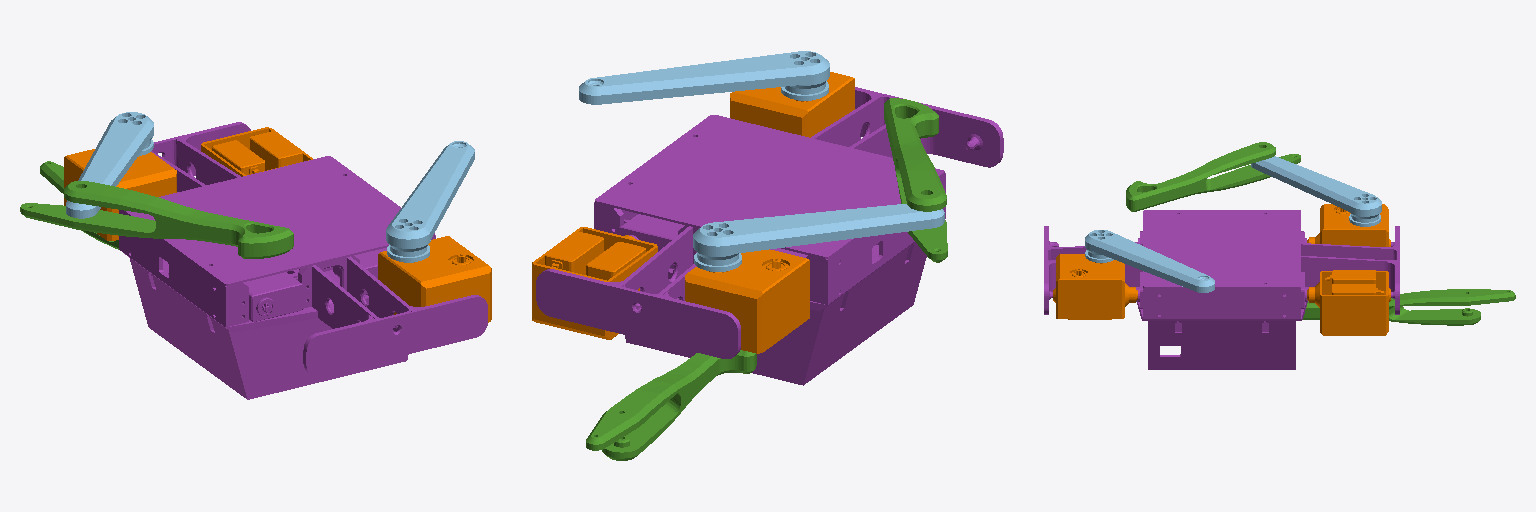
URDF robot description (urdf_robot):
<?xml version="1.0" ?>
<robot name="urdf_robot">
  <link name="base">
    <inertial>
      <origin rpy="0 0 0" xyz="0 0 0"/>
      <mass value="0.001"/>
      <inertia ixx="0.000001" ixy="0" ixz="0" iyy="0.000001" iyz="0" izz="0.000001"/>
    </inertial>
  </link>
  <joint name="floating_base" type="fixed">
    <origin rpy="0 0 0" xyz="0 0 0"/>
    <parent link="base"/>
    <child link="Torso_-_Middle_Section_p1"/>
  </joint>
  <link name="Torso_-_Middle_Section_p1">
    <visual>
      <origin xyz="0 0 0" rpy="0 0 0"/>
      <geometry>
        <mesh filename="meshes/Torso_-_Middle_Section_p1.stl"/>
      </geometry>
      <material name="Torso_-_Middle_Section_p1_material">
        <color rgba="0.68235294 0.33333333 0.7372549 1"/>
      </material>
    </visual>
    <collision>
      <origin xyz="0 0 0" rpy="0 0 0"/>
      <geometry>
        <mesh filename="meshes/Torso_-_Middle_Section_p1.stl"/>
      </geometry>
    </collision>
    <inertial>
      <mass value="1.5240336170000002"/>
      <inertia ixx="0.006287406958264576" iyy="0.003591198732501561" izz="0.009284383146676643" ixy="-2.889103964004566e-06" ixz="-3.4682288637451496e-06" iyz="1.4147265106902277e-06"/>
      <origin xyz="4.082222715513562e-06 4.80864256494196e-05 0.002628680324255778" rpy="0 0 0"/>
    </inertial>
  </link>
  <joint name="dof_shoulder_front_left" type="revolute">
    <origin xyz="0.05283961761012007 -0.07978263030278229 0.006218810242656742" rpy="-1.5707962803846924 1.109880898297888e-08 -5.3589792270436476e-08"/>
    <parent link="Torso_-_Middle_Section_p1"/>
    <child link="LHS,_FRONT"/>
    <limit effort="80" velocity="5" lower="0" upper="3.1415927"/>
    <axis xyz="0 0 1"/>
  </joint>
  <link name="LHS,_FRONT">
    <visual>
      <origin xyz="0 0 0" rpy="0 0 0"/>
      <geometry>
        <mesh filename="meshes/LHS,_FRONT.stl"/>
      </geometry>
      <material name="LHS,_FRONT_material">
        <color rgba="0.97254902 0.52941176 0.0039215686 1"/>
      </material>
    </visual>
    <collision>
      <origin xyz="0 0 0" rpy="0 0 0"/>
      <geometry>
        <mesh filename="meshes/LHS,_FRONT.stl"/>
      </geometry>
    </collision>
    <inertial>
      <mass value="0.5530776769999999"/>
      <inertia ixx="0.00017183834662602455" iyy="0.0002325225472454496" izz="0.00021389164590202177" ixy="1.1040673188142142e-09" ixz="1.018745159861749e-06" iyz="-5.531734021469826e-07"/>
      <origin xyz="3.0038915404756133e-07 -0.0070788828057092084 -0.038508407514846556" rpy="0 0 0"/>
    </inertial>
  </link>
  <joint name="dof_shoulder_front_right" type="revolute">
    <origin xyz="-0.052660382010942725 -0.07978262561367541 0.006218811207272955" rpy="1.5707963732051011 6.468860247466068e-08 3.1415926"/>
    <parent link="Torso_-_Middle_Section_p1"/>
    <child link="RHS,_FRONT"/>
    <limit effort="80" velocity="5" lower="0" upper="3.1415927"/>
    <axis xyz="0 0 1"/>
  </joint>
  <link name="RHS,_FRONT">
    <visual>
      <origin xyz="0 0 0" rpy="0 0 0"/>
      <geometry>
        <mesh filename="meshes/RHS,_FRONT.stl"/>
      </geometry>
      <material name="RHS,_FRONT_material">
        <color rgba="0.97254902 0.52941176 0.0039215686 1"/>
      </material>
    </visual>
    <collision>
      <origin xyz="0 0 0" rpy="0 0 0"/>
      <geometry>
        <mesh filename="meshes/RHS,_FRONT.stl"/>
      </geometry>
    </collision>
    <inertial>
      <mass value="0.553076941"/>
      <inertia ixx="0.00017183756636431793" iyy="0.00023252135585582893" izz="0.00021389105238396795" ixy="-1.244448908952715e-09" ixz="-1.0187105152740643e-06" iyz="-5.529142222548696e-07"/>
      <origin xyz="-3.3727359286788685e-07 -0.0070788968936085625 -0.03850844823380605" rpy="0 0 0"/>
    </inertial>
  </link>
  <joint name="dof_shoulder_rear_right" type="revolute">
    <origin xyz="-0.05266038112248124 0.07981737252407924 0.0062188138408855315" rpy="1.570796373205103 1.1098809205023485e-08 7.771561172376096e-16"/>
    <parent link="Torso_-_Middle_Section_p1"/>
    <child link="Rear_Right_Servo_Box"/>
    <limit effort="80" velocity="5" lower="0" upper="3.1415927"/>
    <axis xyz="0 0 1"/>
  </joint>
  <link name="Rear_Right_Servo_Box">
    <visual>
      <origin xyz="0 0 0" rpy="0 0 0"/>
      <geometry>
        <mesh filename="meshes/Rear_Right_Servo_Box.stl"/>
      </geometry>
      <material name="Rear_Right_Servo_Box_material">
        <color rgba="0.97254902 0.52941176 0.0039215686 1"/>
      </material>
    </visual>
    <collision>
      <origin xyz="0 0 0" rpy="0 0 0"/>
      <geometry>
        <mesh filename="meshes/Rear_Right_Servo_Box.stl"/>
      </geometry>
    </collision>
    <inertial>
      <mass value="0.553076852"/>
      <inertia ixx="0.00017183740699748028" iyy="0.00023252139192085234" izz="0.00021389109491234663" ixy="1.2245683646632023e-09" ixz="1.0193332700918113e-06" iyz="5.527929352999651e-07"/>
      <origin xyz="-3.327546997401528e-07 0.007078904459825944 -0.038508453168711355" rpy="0 0 0"/>
    </inertial>
  </link>
  <joint name="dof_shoulder_rear_left" type="revolute">
    <origin xyz="0.0528396192564558 0.07981737023311562 0.006218809674183447" rpy="-1.5707962803846902 6.468860225261608e-08 3.141592653589793"/>
    <parent link="Torso_-_Middle_Section_p1"/>
    <child link="LHS,_REAR"/>
    <limit effort="80" velocity="5" lower="0" upper="3.1415927"/>
    <axis xyz="0 0 1"/>
  </joint>
  <link name="LHS,_REAR">
    <visual>
      <origin xyz="0 0 0" rpy="0 0 0"/>
      <geometry>
        <mesh filename="meshes/LHS,_REAR.stl"/>
      </geometry>
      <material name="LHS,_REAR_material">
        <color rgba="0.97254902 0.52941176 0.0039215686 1"/>
      </material>
    </visual>
    <collision>
      <origin xyz="0 0 0" rpy="0 0 0"/>
      <geometry>
        <mesh filename="meshes/LHS,_REAR.stl"/>
      </geometry>
    </collision>
    <inertial>
      <mass value="0.553077257"/>
      <inertia ixx="0.00017183783717407704" iyy="0.00023252157033671621" izz="0.00021389094566084832" ixy="-1.2373531736268879e-09" ixz="-1.0193363065177312e-06" iyz="5.529388609360943e-07"/>
      <origin xyz="3.3655731490525687e-07 0.007078896637586169 -0.03850843079234288" rpy="0 0 0"/>
    </inertial>
  </link>
  <joint name="Revolute_1" type="revolute">
    <origin xyz="-0.014500000633499342 -0.03185000062727575 -0.02864999963424966" rpy="-1.5707963267948966 -1.5707962889011908 0.0"/>
    <parent link="LHS,_FRONT"/>
    <child link="Hip_Horn"/>
    <limit effort="80" velocity="5" lower="0" upper="0"/>
    <axis xyz="0 0 1"/>
  </joint>
  <link name="Hip_Horn">
    <visual>
      <origin xyz="0 0 0" rpy="0 0 0"/>
      <geometry>
        <mesh filename="meshes/Hip_Horn.stl"/>
      </geometry>
      <material name="Hip_Horn_material">
        <color rgba="0.61568627 0.81176471 0.92941176 1"/>
      </material>
    </visual>
    <collision>
      <origin xyz="0 0 0" rpy="0 0 0"/>
      <geometry>
        <mesh filename="meshes/Hip_Horn.stl"/>
      </geometry>
    </collision>
    <inertial>
      <mass value="0.0511314554"/>
      <inertia ixx="5.293923258542076e-05" iyy="5.2939234477074613e-05" izz="0.00010232304335895765" ixy="-4.821881122947881e-05" ixz="3.1944217284432654e-06" iyz="3.194421665783694e-06"/>
      <origin xyz="0.034947244515342576 0.03494724382984155 -0.014066303948382371" rpy="0 0 0"/>
    </inertial>
  </link>
  <joint name="Revolute_3" type="revolute">
    <origin xyz="0.014499999366500718 -0.03184999930092836 -0.028649999634249655" rpy="-1.5707963071795867 -4.641020634466031e-08 -4.641020534545959e-08"/>
    <parent link="RHS,_FRONT"/>
    <child link="Hip_Horn_2"/>
    <limit effort="80" velocity="5" lower="0" upper="0"/>
    <axis xyz="0 0 1"/>
  </joint>
  <link name="Hip_Horn_2">
    <visual>
      <origin xyz="0 0 0" rpy="0 0 0"/>
      <geometry>
        <mesh filename="meshes/Hip_Horn_2.stl"/>
      </geometry>
      <material name="Hip_Horn_material_2">
        <color rgba="0.61568627 0.81176471 0.92941176 1"/>
      </material>
    </visual>
    <collision>
      <origin xyz="0 0 0" rpy="0 0 0"/>
      <geometry>
        <mesh filename="meshes/Hip_Horn_2.stl"/>
      </geometry>
    </collision>
    <inertial>
      <mass value="0.0511314554"/>
      <inertia ixx="5.2939233203605856e-05" iyy="5.2939233858889525e-05" izz="0.00010232304335895765" ixy="-4.8218811229478833e-05" ixz="-3.194421707966363e-06" iyz="-3.1944216862605973e-06"/>
      <origin xyz="-0.03494724429132352 -0.03494724405386061 -0.014066303948382371" rpy="0 0 0"/>
    </inertial>
  </link>
  <joint name="dof_servo_hip" type="revolute">
    <origin xyz="0.014499999366500638 0.03185000069907161 -0.048649999634249666" rpy="1.570796419615309 -1.5707962889011904 0.0"/>
    <parent link="Rear_Right_Servo_Box"/>
    <child link="Hip_Horn_3"/>
    <limit effort="80" velocity="5" lower="0" upper="3.1415927"/>
    <axis xyz="0 0 1"/>
  </joint>
  <link name="Hip_Horn_3">
    <visual>
      <origin xyz="0 0 0" rpy="0 0 0"/>
      <geometry>
        <mesh filename="meshes/Hip_Horn_3.stl"/>
      </geometry>
      <material name="Hip_Horn_material_3">
        <color rgba="0.61568627 0.81176471 0.92941176 1"/>
      </material>
    </visual>
    <collision>
      <origin xyz="0 0 0" rpy="0 0 0"/>
      <geometry>
        <mesh filename="meshes/Hip_Horn_3.stl"/>
      </geometry>
    </collision>
    <inertial>
      <mass value="0.0511314554"/>
      <inertia ixx="5.293923258542076e-05" iyy="5.2939234477074613e-05" izz="0.00010232304335895765" ixy="-4.821881122947881e-05" ixz="3.1944217284432654e-06" iyz="3.194421665783694e-06"/>
      <origin xyz="0.034947244515342576 0.03494724382984155 -0.014066303948382371" rpy="0 0 0"/>
    </inertial>
  </link>
  <joint name="Revolute_3_2" type="revolute">
    <origin xyz="-0.014500000633499367 0.03185000116317368 -0.048649999634249666" rpy="1.5707963999999999 4.641020678874952e-08 4.641020778795024e-08"/>
    <parent link="LHS,_REAR"/>
    <child link="Hip_Horn_4"/>
    <limit effort="80" velocity="5" lower="0" upper="0"/>
    <axis xyz="0 0 1"/>
  </joint>
  <link name="Hip_Horn_4">
    <visual>
      <origin xyz="0 0 0" rpy="0 0 0"/>
      <geometry>
        <mesh filename="meshes/Hip_Horn_4.stl"/>
      </geometry>
      <material name="Hip_Horn_material_4">
        <color rgba="0.61568627 0.81176471 0.92941176 1"/>
      </material>
    </visual>
    <collision>
      <origin xyz="0 0 0" rpy="0 0 0"/>
      <geometry>
        <mesh filename="meshes/Hip_Horn_4.stl"/>
      </geometry>
    </collision>
    <inertial>
      <mass value="0.0511314554"/>
      <inertia ixx="5.293923258542076e-05" iyy="5.2939234477074613e-05" izz="0.00010232304335895765" ixy="4.821881122947881e-05" ixz="3.1944217284432654e-06" iyz="-3.194421665783694e-06"/>
      <origin xyz="0.034947244515342576 -0.03494724382984155 -0.014066303948382371" rpy="0 0 0"/>
    </inertial>
  </link>
  <joint name="Revolute_5" type="revolute">
    <origin xyz="0.0919238824558089 0.09192388065269347 -0.0132" rpy="-3.1415926071795868 0.0 -2.3561945"/>
    <parent link="Hip_Horn"/>
    <child link="(RIGHT_Lower_Leg_simple)-(Boss-Extrude3)"/>
    <limit effort="80" velocity="5" lower="0" upper="1.9198622"/>
    <axis xyz="0 0 1"/>
  </joint>
  <link name="(RIGHT_Lower_Leg_simple)-(Boss-Extrude3)">
    <visual>
      <origin xyz="0 0 0" rpy="0 0 0"/>
      <geometry>
        <mesh filename="meshes/(RIGHT_Lower_Leg_simple)-(Boss-Extrude3).stl"/>
      </geometry>
      <material name="(RIGHT_Lower_Leg_simple)-(Boss-Extrude3)_material">
        <color rgba="0.37254902 0.65490196 0.23921569 1"/>
      </material>
    </visual>
    <collision>
      <origin xyz="0 0 0" rpy="0 0 0"/>
      <geometry>
        <mesh filename="meshes/(RIGHT_Lower_Leg_simple)-(Boss-Extrude3).stl"/>
      </geometry>
    </collision>
    <inertial>
      <mass value="0.057644496"/>
      <inertia ixx="7.9749588e-05" iyy="8.3357435e-05" izz="0.00015610457" ixy="-7.560864e-05" ixz="-2.7077085e-06" iyz="-2.5131387e-06"/>
      <origin xyz="0.044912722 0.043111703 0.0021896056" rpy="0 0 0"/>
    </inertial>
  </link>
  <joint name="Revolute_5_2" type="revolute">
    <origin xyz="-0.09192388186655782 -0.09192388124194455 -0.0132" rpy="-3.1415926071795863 0.0 -2.3561944471795866"/>
    <parent link="Hip_Horn_2"/>
    <child link="(RIGHT_Lower_Leg_simple)-(Boss-Extrude3)_2"/>
    <limit effort="80" velocity="5" lower="1.2217305" upper="3.1415927"/>
    <axis xyz="0 0 1"/>
  </joint>
  <link name="(RIGHT_Lower_Leg_simple)-(Boss-Extrude3)_2">
    <visual>
      <origin xyz="0 0 0" rpy="0 0 0"/>
      <geometry>
        <mesh filename="meshes/(RIGHT_Lower_Leg_simple)-(Boss-Extrude3)_2.stl"/>
      </geometry>
      <material name="(RIGHT_Lower_Leg_simple)-(Boss-Extrude3)_material_2">
        <color rgba="0.37254902 0.65490196 0.23921569 1"/>
      </material>
    </visual>
    <collision>
      <origin xyz="0 0 0" rpy="0 0 0"/>
      <geometry>
        <mesh filename="meshes/(RIGHT_Lower_Leg_simple)-(Boss-Extrude3)_2.stl"/>
      </geometry>
    </collision>
    <inertial>
      <mass value="0.057644496"/>
      <inertia ixx="7.9749588e-05" iyy="8.3357435e-05" izz="0.00015610457" ixy="7.560864e-05" ixz="-2.7077089e-06" iyz="2.5131393e-06"/>
      <origin xyz="0.044912722 -0.043111703 0.0021896074" rpy="0 0 0"/>
    </inertial>
  </link>
  <joint name="dof_knee" type="revolute">
    <origin xyz="0.0919238824558089 0.09192388065269347 -0.0132" rpy="-3.1415926071795863 2.220446049250313e-16 0.7853981999999999"/>
    <parent link="Hip_Horn_3"/>
    <child link="(RIGHT_Lower_Leg_simple)-(Boss-Extrude3)_3"/>
    <limit effort="80" velocity="5" lower="1.2217305" upper="3.1415927"/>
    <axis xyz="0 0 1"/>
  </joint>
  <link name="(RIGHT_Lower_Leg_simple)-(Boss-Extrude3)_3">
    <visual>
      <origin xyz="0 0 0" rpy="0 0 0"/>
      <geometry>
        <mesh filename="meshes/(RIGHT_Lower_Leg_simple)-(Boss-Extrude3)_3.stl"/>
      </geometry>
      <material name="(RIGHT_Lower_Leg_simple)-(Boss-Extrude3)_material_3">
        <color rgba="0.37254902 0.65490196 0.23921569 1"/>
      </material>
    </visual>
    <collision>
      <origin xyz="0 0 0" rpy="0 0 0"/>
      <geometry>
        <mesh filename="meshes/(RIGHT_Lower_Leg_simple)-(Boss-Extrude3)_3.stl"/>
      </geometry>
    </collision>
    <inertial>
      <mass value="0.057644496"/>
      <inertia ixx="7.9749588e-05" iyy="8.3357435e-05" izz="0.00015610457" ixy="7.560864e-05" ixz="-2.7077089e-06" iyz="2.5131393e-06"/>
      <origin xyz="0.044912722 -0.043111703 0.0021896074" rpy="0 0 0"/>
    </inertial>
  </link>
  <joint name="Revolute_7" type="revolute">
    <origin xyz="0.0919238824558089 -0.09192388065269347 -0.0132" rpy="-3.1415926071795863 0.0 2.3561944999999995"/>
    <parent link="Hip_Horn_4"/>
    <child link="(RIGHT_Lower_Leg_simple)-(Boss-Extrude3)_4"/>
    <limit effort="80" velocity="5" lower="0" upper="1.9198622"/>
    <axis xyz="0 0 1"/>
  </joint>
  <link name="(RIGHT_Lower_Leg_simple)-(Boss-Extrude3)_4">
    <visual>
      <origin xyz="0 0 0" rpy="0 0 0"/>
      <geometry>
        <mesh filename="meshes/(RIGHT_Lower_Leg_simple)-(Boss-Extrude3)_4.stl"/>
      </geometry>
      <material name="(RIGHT_Lower_Leg_simple)-(Boss-Extrude3)_material_4">
        <color rgba="0.37254902 0.65490196 0.23921569 1"/>
      </material>
    </visual>
    <collision>
      <origin xyz="0 0 0" rpy="0 0 0"/>
      <geometry>
        <mesh filename="meshes/(RIGHT_Lower_Leg_simple)-(Boss-Extrude3)_4.stl"/>
      </geometry>
    </collision>
    <inertial>
      <mass value="0.057644496"/>
      <inertia ixx="7.9749588e-05" iyy="8.3357435e-05" izz="0.00015610457" ixy="-7.560864e-05" ixz="-2.7077085e-06" iyz="-2.5131387e-06"/>
      <origin xyz="0.044912722 0.043111703 0.0021896056" rpy="0 0 0"/>
    </inertial>
  </link>
</robot>

--- Render facts (derived) ---
The picture shows the robot from 3 angles, left to right: view 1: azimuth 30°, elevation 25°; view 2: azimuth 150°, elevation 25°; view 3: azimuth 270°, elevation 25°; orthographic projection.
Robot: urdf_robot — 14 links, 13 joints (12 revolute, 1 fixed); root link base; default pose: all joints at 0 but 2 set to mid-range because 0 is outside their limits (Revolute_5_2 = 2.18, dof_knee = 2.18).
Visible links, largest first — view 1: Torso_-_Middle_Section_p1, (RIGHT_Lower_Leg_simple)-(Boss-Extrude3)_3, LHS,_FRONT, Hip_Horn, Hip_Horn_3, LHS,_REAR, Rear_Right_Servo_Box, (RIGHT_Lower_Leg_simple)-(Boss-Extrude3)_4; view 2: Torso_-_Middle_Section_p1, Rear_Right_Servo_Box, Hip_Horn, Hip_Horn_3, (RIGHT_Lower_Leg_simple)-(Boss-Extrude3)_4, (RIGHT_Lower_Leg_simple)-(Boss-Extrude3)_3, LHS,_REAR, LHS,_FRONT; view 3: Torso_-_Middle_Section_p1, LHS,_REAR, LHS,_FRONT, (RIGHT_Lower_Leg_simple)-(Boss-Extrude3)_3, (RIGHT_Lower_Leg_simple)-(Boss-Extrude3)_4, Hip_Horn, Hip_Horn_3, Rear_Right_Servo_Box.
Link boxes in pixels (bbox=[...]): Torso_-_Middle_Section_p1: bbox=[119, 122, 487, 399]; (RIGHT_Lower_Leg_simple)-(Boss-Extrude3)_3: bbox=[20, 181, 293, 258]; LHS,_FRONT: bbox=[378, 236, 491, 322]; Hip_Horn: bbox=[386, 141, 474, 262]; Hip_Horn_3: bbox=[66, 112, 153, 218]; LHS,_REAR: bbox=[201, 127, 312, 176]; Rear_Right_Servo_Box: bbox=[64, 149, 176, 240]; (RIGHT_Lower_Leg_simple)-(Boss-Extrude3)_4: bbox=[40, 161, 118, 249]; Torso_-_Middle_Section_p1: bbox=[536, 87, 1003, 385]; Rear_Right_Servo_Box: bbox=[685, 249, 809, 353]; Hip_Horn: bbox=[579, 51, 829, 104]; Hip_Horn_3: bbox=[693, 204, 944, 271]; (RIGHT_Lower_Leg_simple)-(Boss-Extrude3)_4: bbox=[586, 350, 756, 460]; (RIGHT_Lower_Leg_simple)-(Boss-Extrude3)_3: bbox=[884, 98, 947, 262]; LHS,_REAR: bbox=[532, 227, 657, 339]; LHS,_FRONT: bbox=[730, 72, 854, 137]; Torso_-_Middle_Section_p1: bbox=[1044, 210, 1399, 369]; LHS,_REAR: bbox=[1307, 270, 1390, 335]; LHS,_FRONT: bbox=[1053, 254, 1137, 319]; (RIGHT_Lower_Leg_simple)-(Boss-Extrude3)_3: bbox=[1126, 142, 1300, 211]; (RIGHT_Lower_Leg_simple)-(Boss-Extrude3)_4: bbox=[1303, 289, 1515, 325]; Hip_Horn: bbox=[1085, 230, 1214, 292]; Hip_Horn_3: bbox=[1251, 156, 1381, 226]; Rear_Right_Servo_Box: bbox=[1307, 204, 1390, 246].
Size in the robot's own frame: 0.3005 by 0.4227 by 0.132 metres.
Meshes: 13 distinct files referenced, 8 mesh visuals loaded (8 binary STL); not drawn: 5 (reference not matched to a file when rendering).
